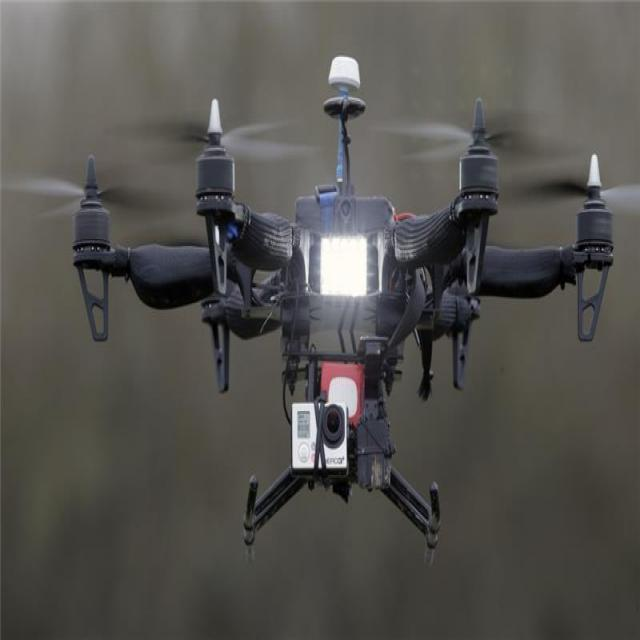UAV: (71, 51, 617, 565)
